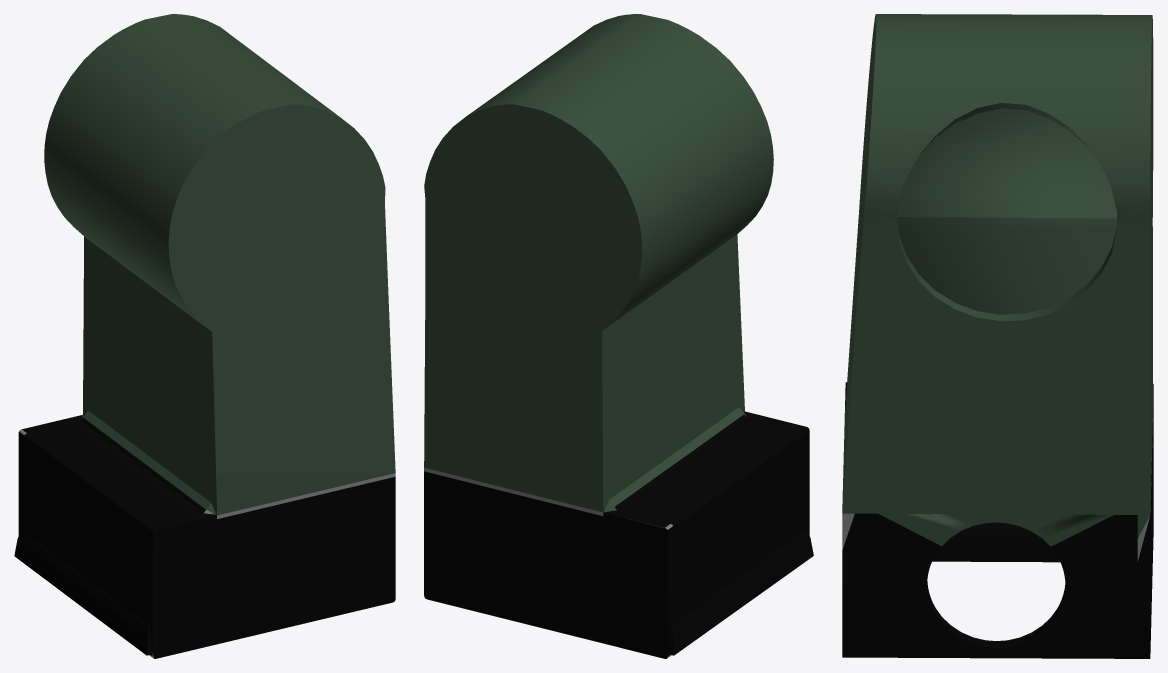
The model's file is piernader.obj.
The picture shows the model from 3 angles, left to right: view 1: azimuth 30°, elevation 25°; view 2: azimuth 150°, elevation 25°; view 3: azimuth 270°, elevation 25°; orthographic projection. The views are drawn at different scales.
Visible parts, largest first — view 1: kevin:Plane004; view 2: kevin:Plane004; view 3: kevin:Plane004.
Boxes of the visible parts, bbox=[...] form: kevin:Plane004: bbox=[14, 14, 395, 658]; kevin:Plane004: bbox=[424, 14, 813, 658]; kevin:Plane004: bbox=[842, 14, 1153, 658].
Size of the model in its own units: 0.6034 by 1.18 by 0.5806.
Materials: 4 (3 with a texture image).
